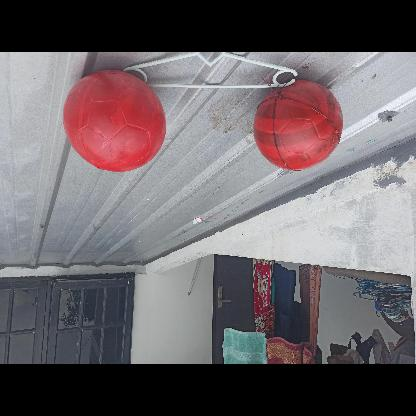red_ball: (61, 70, 168, 178), (250, 82, 342, 174)
